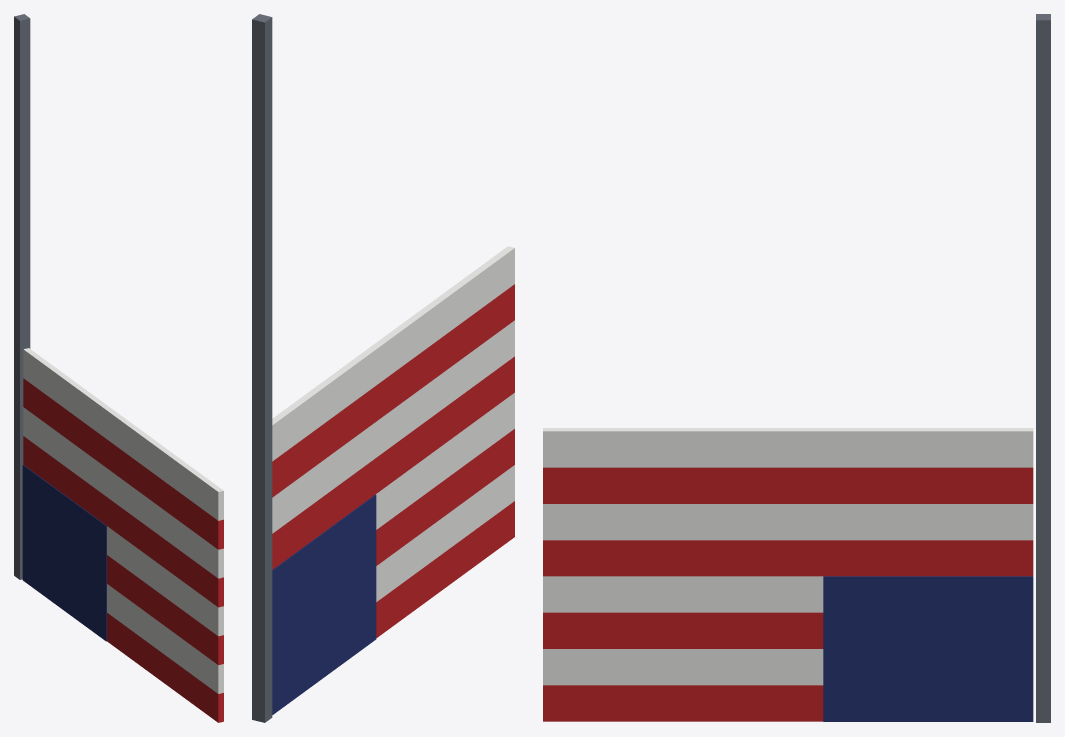
Rendered from flag.glb.
3 views of the same model, side by side, from view 1: azimuth 30°, elevation 25°; view 2: azimuth 150°, elevation 25°; view 3: azimuth 270°, elevation 25° (orthographic). The views are drawn at different scales.
Visible parts, largest first — view 1: flag; view 2: flag; view 3: flag.
Boxes of the visible parts, bbox=[...] form: flag: bbox=[14, 14, 223, 722]; flag: bbox=[252, 14, 514, 722]; flag: bbox=[543, 14, 1050, 722].
Bounding box in the file's own units: 0.015 × 0.775 × 0.5075.
1 material, 1 textured.
